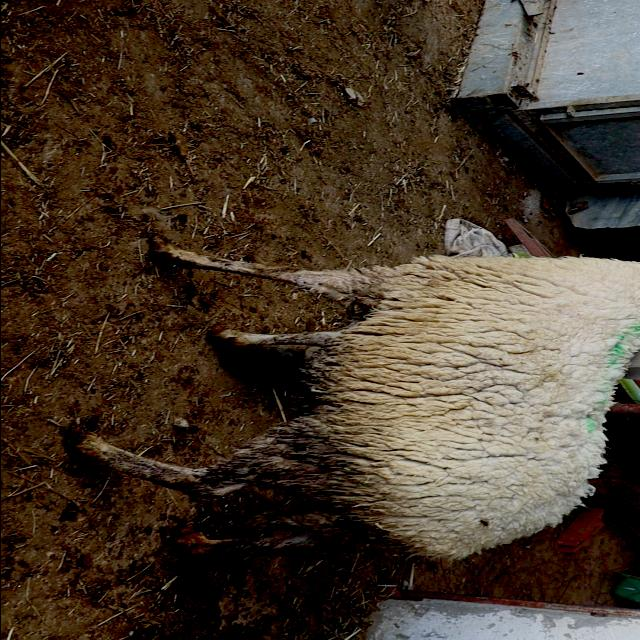Score_4: (75, 241, 640, 559)
